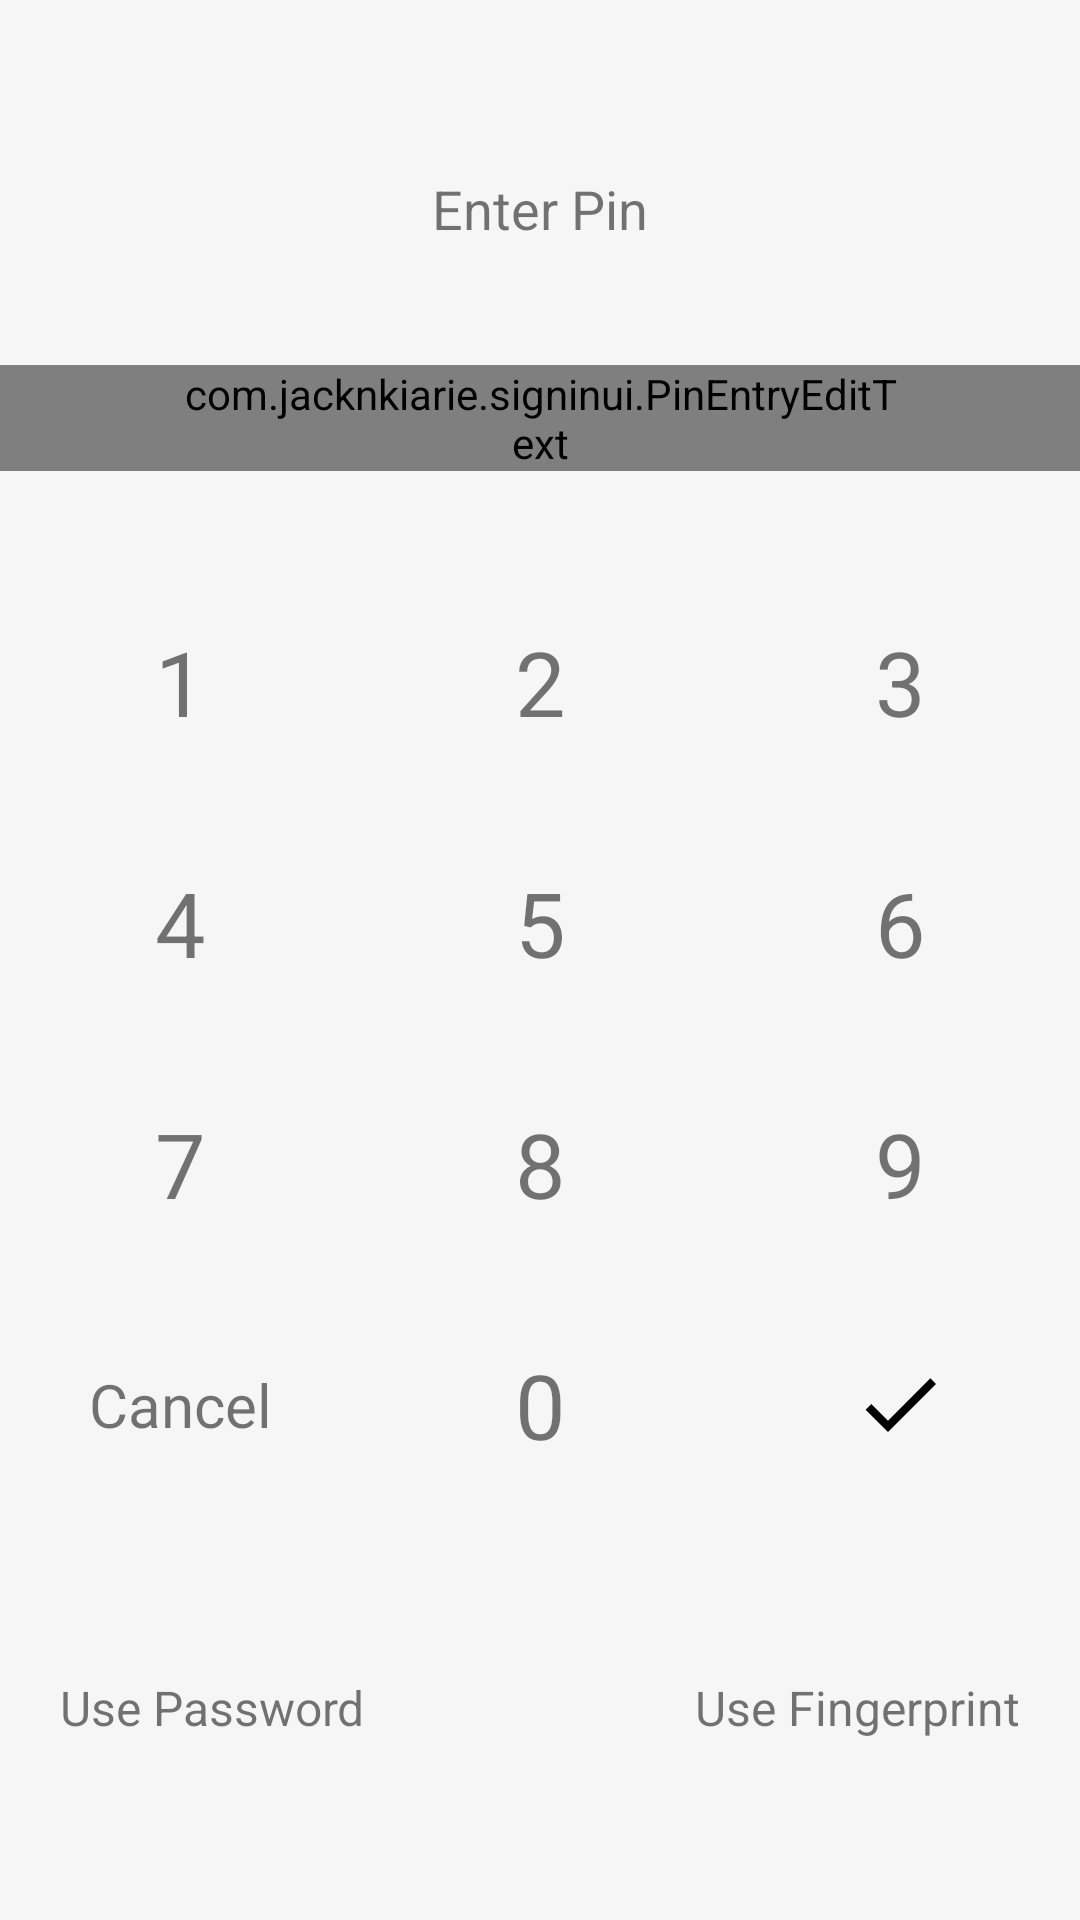

Where to tap for icons on this 1080px x 1920px app screen, as [x,y]:
pin check: [900,1405]
